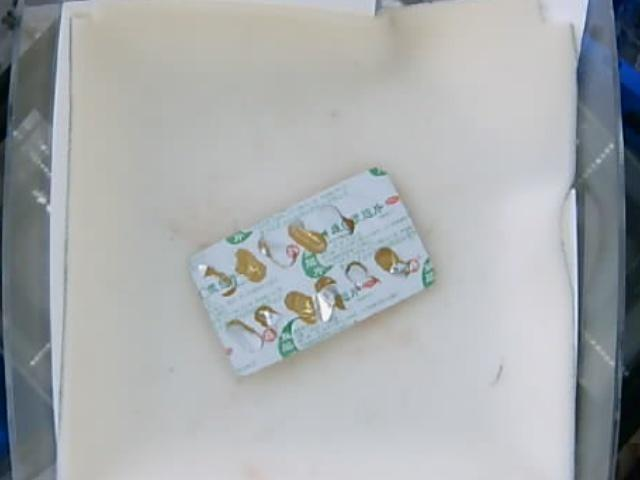Medicine: (191, 163, 437, 374)
